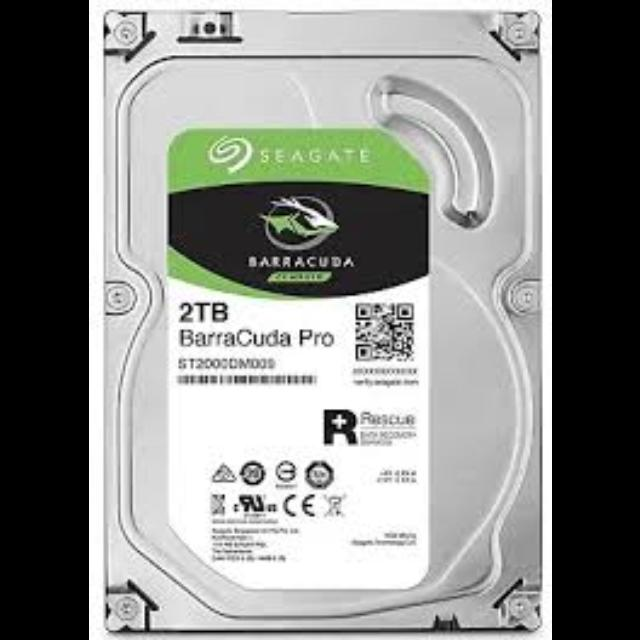HDD: (103, 10, 539, 638)
